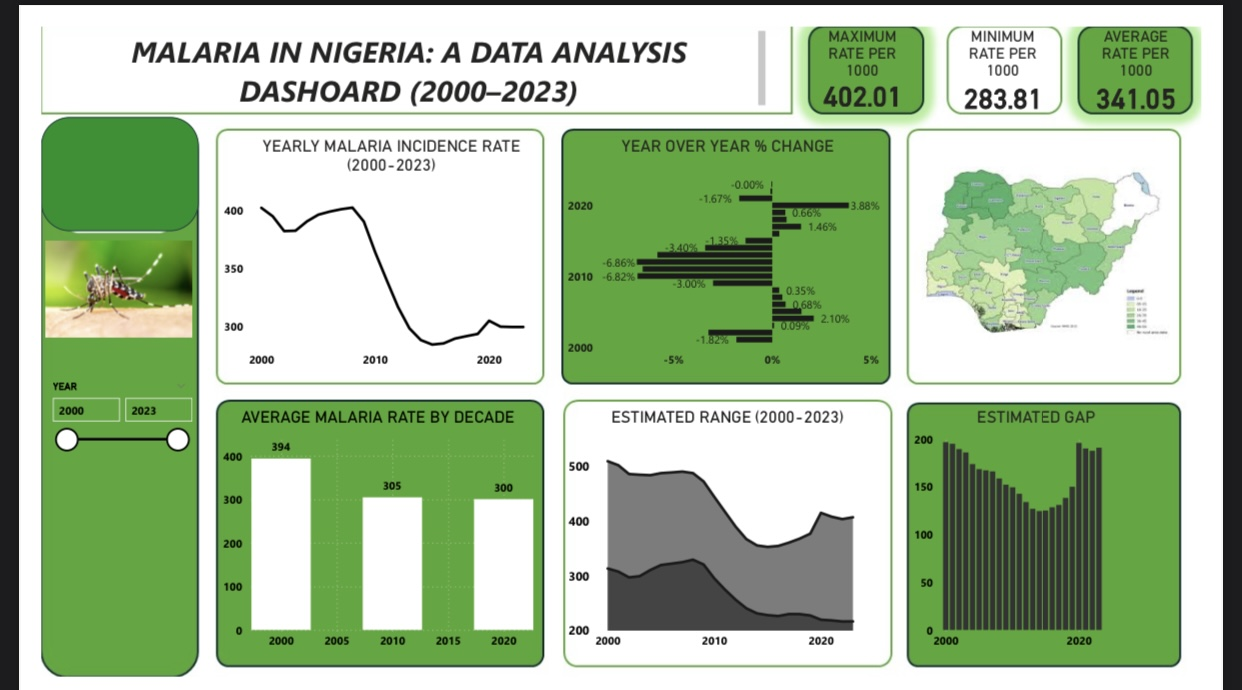

What the dashboard file says about the page in this screenshot:
{"tool":"powerbi","page":{"name":"Page 1","canvas":[1280,720],"ordinal":0},"visuals":[{"type":"card","title":"MAXIMUM RATE PER 1000","fields":{"Values":["Max(442CEA8_ALL_LATEST.RATE_PER_1000_N)"]},"box":[856.7,0,102.5,94.1],"z":0},{"type":"card","title":"MINIMUM RATE PER 1000","fields":{"Values":["Min(442CEA8_ALL_LATEST.RATE_PER_1000_N)"]},"box":[1009.6,0,102.5,99.1],"z":1000},{"type":"card","title":"AVERAGE RATE PER 1000","fields":{"Values":["Avg(442CEA8_ALL_LATEST.RATE_PER_1000_N)"]},"box":[1149,0,119.3,99.1],"z":2000},{"type":"lineChart","title":"YEARLY MALARIA INCIDENCE RATE (2000-2023)","fields":{"Y":["Sum(442CEA8_ALL_LATEST.RATE_PER_1000_N)"],"Category":["442CEA8_ALL_LATEST.DIM_TIME"]},"box":[196.5,120.9,379.6,265.4],"z":3000},{"type":"areaChart","title":"MALARIA ESTIMATE (2000-2023)","fields":{"Category":["442CEA8_ALL_LATEST.DIM_TIME"],"Y":["Sum(442CEA8_ALL_LATEST.RATE_PER_1000_NL)","Sum(442CEA8_ALL_LATEST.RATE_PER_1000_NU)"]},"box":[576,420,362,276],"z":4000},{"type":"clusteredBarChart","title":"YEAR TO YEAR % CHANGE","fields":{"Category":["442CEA8_ALL_LATEST.DIM_TIME"],"Y":["Sum(442CEA8_ALL_LATEST.YoY_Change)"]},"box":[576.2,120.9,362.8,265.4],"z":5000},{"type":"image","box":[958,100,294,300],"z":6000},{"type":"image","box":[0,120,172,340],"z":7000},{"type":"shape","box":[0,100,174,126],"z":8000},{"type":"clusteredColumnChart","title":"AVERAGE MALARIA RATE BY DECADE","fields":{"Y":["Avg(442CEA8_ALL_LATEST.RATE_PER_1000_N)"],"Category":["442CEA8_ALL_LATEST.Decade"]},"box":[196,420,352,276],"z":9000},{"type":"clusteredColumnChart","title":"ESTIMATED GAP BY YEAR","fields":{"Y":["Sum(442CEA8_ALL_LATEST.Estimate_Gap)"],"Category":["442CEA8_ALL_LATEST.DIM_TIME"]},"box":[958,420,280,276],"z":10000},{"type":"textbox","box":[16,0,788,94],"z":11000},{"type":"slicer","fields":{"Values":["442CEA8_ALL_LATEST.DIM_TIME"]},"box":[0,386,172,98],"z":12000}]}

Visuals, with their boxes in screenshot pixels (x1, y1, x2, y2), scaled from the page's 1280x720 canvas onto the 1242x690 screenshot:
"MAXIMUM RATE PER 1000" card: <box>831,0,931,90</box>
"MINIMUM RATE PER 1000" card: <box>980,0,1079,95</box>
"AVERAGE RATE PER 1000" card: <box>1115,0,1231,95</box>
"YEARLY MALARIA INCIDENCE RATE (2000-2023)" lineChart: <box>191,116,559,370</box>
"MALARIA ESTIMATE (2000-2023)" areaChart: <box>559,402,910,667</box>
"YEAR TO YEAR % CHANGE" clusteredBarChart: <box>559,116,911,370</box>
image: <box>930,96,1215,383</box>
image: <box>0,115,167,441</box>
shape: <box>0,96,169,217</box>
"AVERAGE MALARIA RATE BY DECADE" clusteredColumnChart: <box>190,402,532,667</box>
"ESTIMATED GAP BY YEAR" clusteredColumnChart: <box>930,402,1201,667</box>
textbox: <box>16,0,780,90</box>
slicer - 442CEA8_ALL_LATEST.DIM_TIME: <box>0,370,167,464</box>
